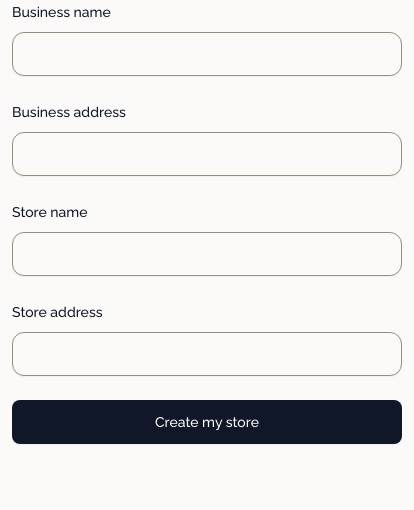
Test: OnboardingForm › shows a general error in an alert and leaves the form usable
Type "Acme Ltd" into the field labelled "Business name".
click(207, 54); type("Acme Ltd")  # box [12,32,402,76]
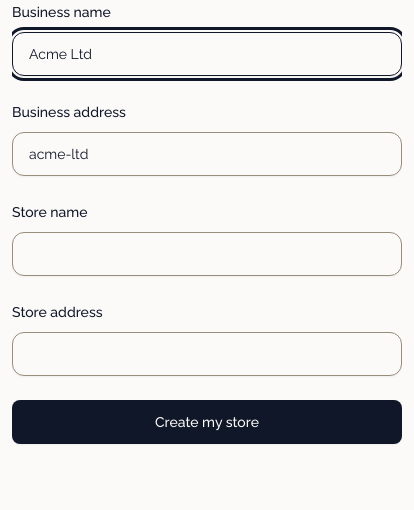
Type "Acme Shop" into the field labelled "Store name".
click(207, 254); type("Acme Shop")  # box [12,232,402,276]
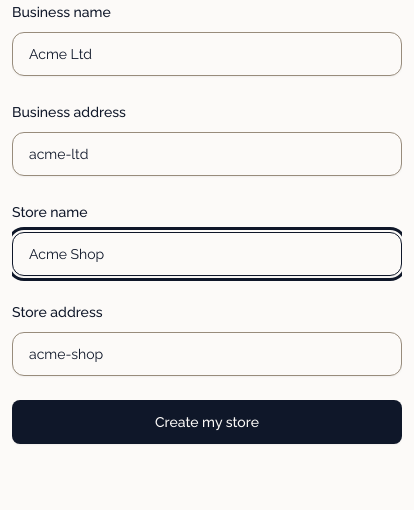
Click the button "Create my store".
click(207, 422)  # box [12,400,402,444]
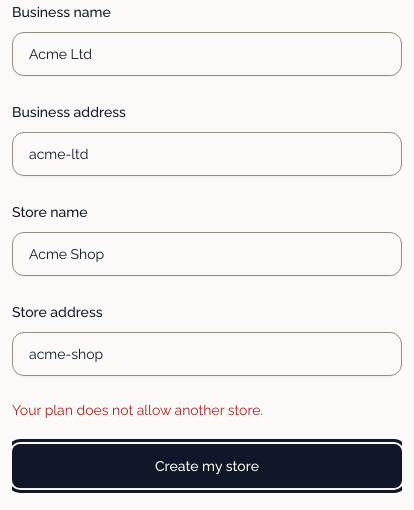
Now the message shows "plan does not allow", box [12,402,263,418]
